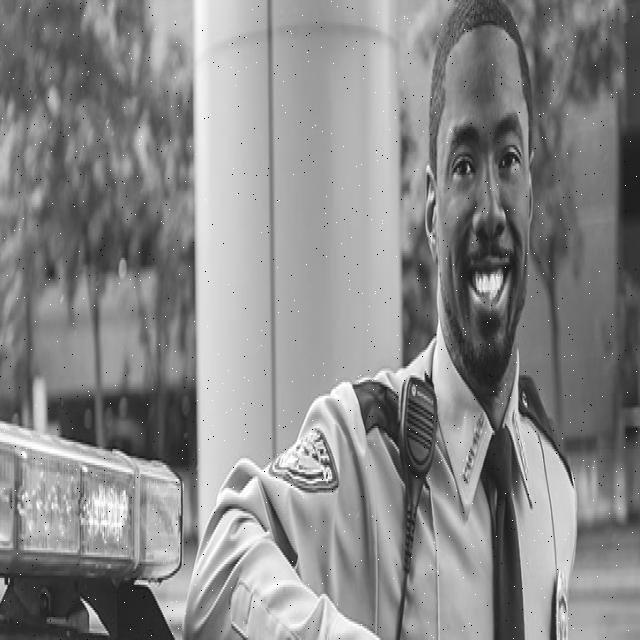police: (212, 0, 589, 640)
